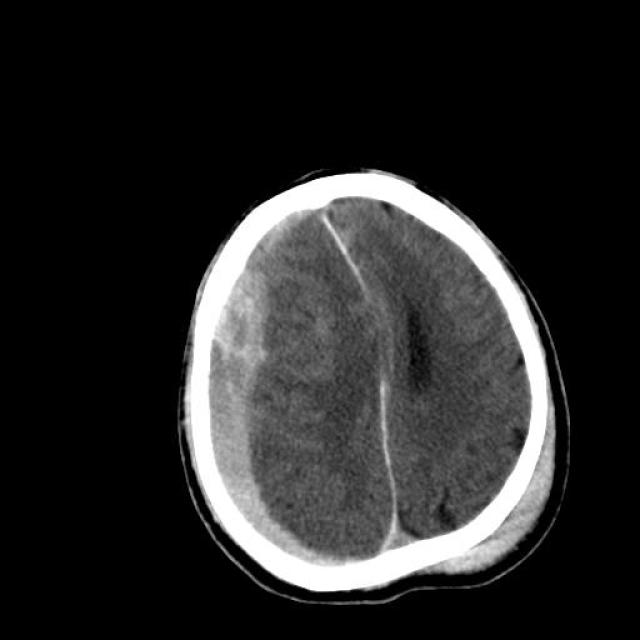Subdural: (148, 211, 348, 591)
